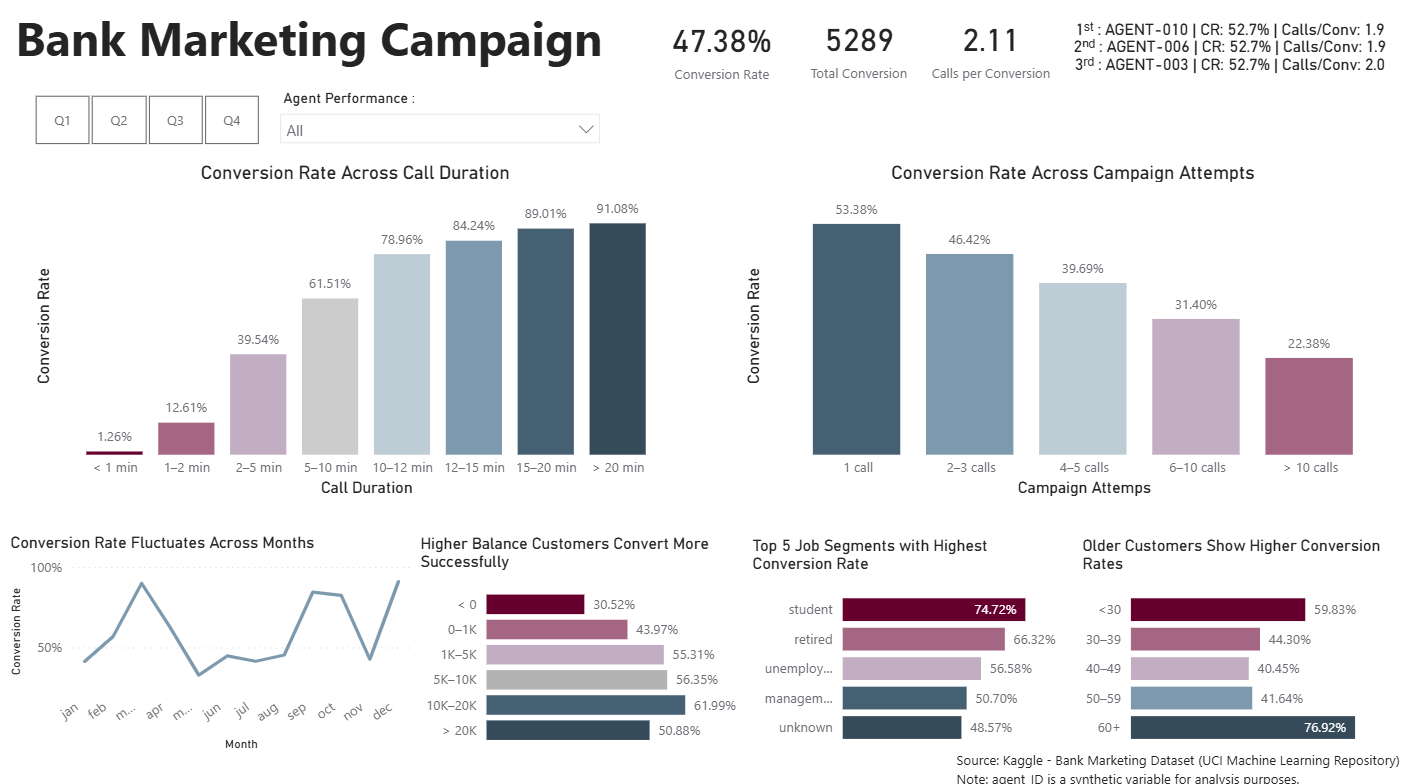

What the dashboard file says about the page in this screenshot:
{"tool":"powerbi","page":{"name":"Page 1","canvas":[1280,720],"ordinal":0},"visuals":[{"type":"card","fields":{"Values":["bank.Conversion Rate"]},"box":[593,1,129,85],"z":0},{"type":"columnChart","title":"Conversion Rate Across Call Duration","fields":{"Category":["bank.duration group"],"Y":["bank.Conversion Rate"]},"box":[27,146.8,593,310],"z":1000},{"type":"columnChart","title":"Conversion Rate Across Campaign Attempts","fields":{"Category":["bank.campaign group"],"Y":["bank.Conversion Rate"]},"box":[673,146.8,607,310],"z":2000},{"type":"card","fields":{"Values":["bank.Calls per Conversion"]},"box":[842,0,120,85],"z":3000},{"type":"clusteredBarChart","title":"Older Customers Show Higher Conversion Rates","fields":{"Category":["bank.age group"],"Y":["bank.Conversion Rate"]},"box":[980,488,298,200],"z":4000},{"type":"clusteredBarChart","title":"Top 5 Job Segments with Highest Conversion Rate","fields":{"Category":["bank.job"],"Y":["bank.Conversion Rate"]},"box":[680,487.8,298,200],"z":5000},{"type":"clusteredBarChart","title":"Higher Balance Customers Convert More Successfully","fields":{"Category":["bank.balance group"],"Y":["bank.Conversion Rate"]},"box":[378,486.8,298,201],"z":6000},{"type":"card","fields":{"Values":["bank.Total Conversion"]},"box":[722,0,120,85],"z":7000},{"type":"card","fields":{"Values":["bank.Top 3 Agent"]},"box":[966,1,305,85],"z":8000},{"type":"slicer","title":"Quartal Performance","fields":{"Values":["bank.month quarter"]},"box":[7,79.8,253,58],"z":9000},{"type":"lineChart","title":"Conversion Rate Fluctuates Across Months","fields":{"Y":["bank.Conversion Rate"],"Category":["bank.Month Name"]},"box":[5,485.8,373,202],"z":10000},{"type":"textbox","box":[10,0,575,77],"z":11000},{"type":"slicer","fields":{"Values":["bank.agentID"]},"box":[245,76.8,311,58],"z":12000},{"type":"textbox","box":[865,676,415,44],"z":13000}]}

Visuals, with their boxes in screenshot pixels (x1, y1, x2, y2), scaled from the page's 1280x720 canvas onto the 1405x784 screenshot:
card - bank.Conversion Rate: x1=651, y1=1, x2=793, y2=94
"Conversion Rate Across Call Duration" columnChart: x1=30, y1=160, x2=681, y2=497
"Conversion Rate Across Campaign Attempts" columnChart: x1=739, y1=160, x2=1404, y2=497
card - bank.Calls per Conversion: x1=924, y1=0, x2=1056, y2=93
"Older Customers Show Higher Conversion Rates" clusteredBarChart: x1=1076, y1=531, x2=1403, y2=749
"Top 5 Job Segments with Highest Conversion Rate" clusteredBarChart: x1=746, y1=531, x2=1074, y2=749
"Higher Balance Customers Convert More Successfully" clusteredBarChart: x1=415, y1=530, x2=742, y2=749
card - bank.Total Conversion: x1=793, y1=0, x2=924, y2=93
card - bank.Top 3 Agent: x1=1060, y1=1, x2=1395, y2=94
"Quartal Performance" slicer: x1=8, y1=87, x2=285, y2=150
"Conversion Rate Fluctuates Across Months" lineChart: x1=5, y1=529, x2=415, y2=749
textbox: x1=11, y1=0, x2=642, y2=84
slicer - bank.agentID: x1=269, y1=84, x2=610, y2=147
textbox: x1=949, y1=736, x2=1404, y2=783
